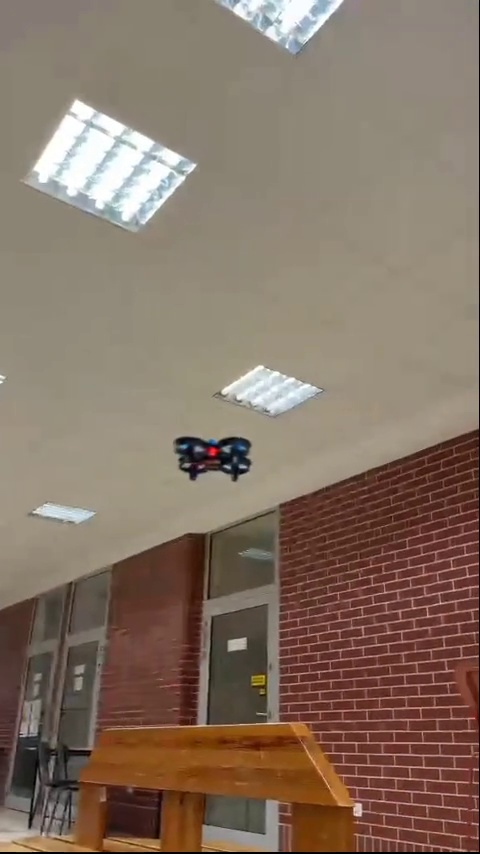drone: (173, 438, 252, 481)
